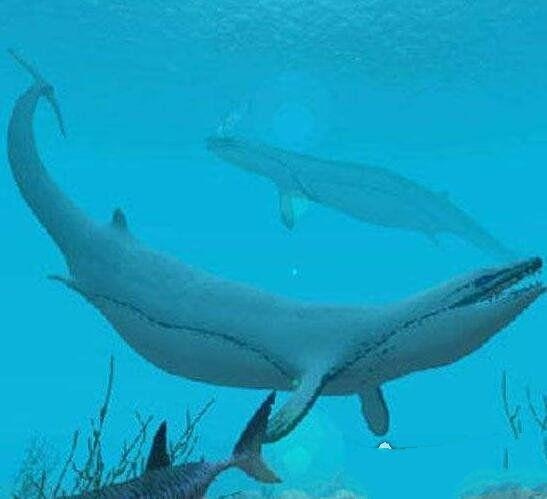fish: (11, 50, 545, 426), (203, 131, 522, 263)
